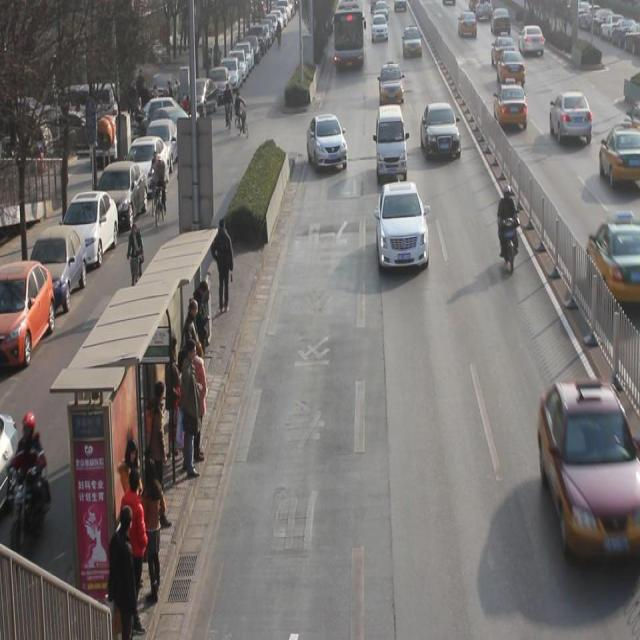car: (539, 382, 640, 558), (587, 214, 640, 311), (377, 184, 429, 272), (600, 122, 640, 190), (549, 93, 593, 148), (421, 104, 461, 163), (308, 116, 348, 172), (494, 79, 527, 130), (496, 49, 526, 85), (379, 64, 404, 105), (518, 25, 545, 56), (491, 34, 516, 66), (403, 26, 422, 58), (492, 8, 511, 37), (459, 10, 478, 39), (371, 16, 389, 42)
truck: (378, 107, 408, 181)
van: (333, 1, 364, 69)
